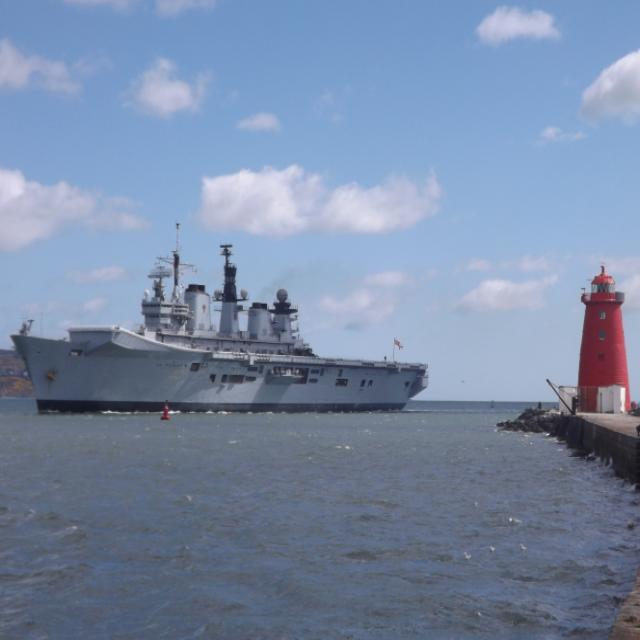Portanaves: (8, 212, 434, 422)
